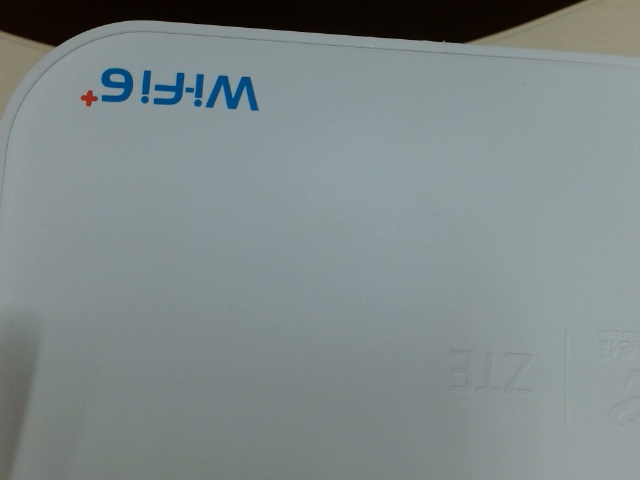AJ_ZTEWIFI6Plus: (67, 58, 271, 120)
